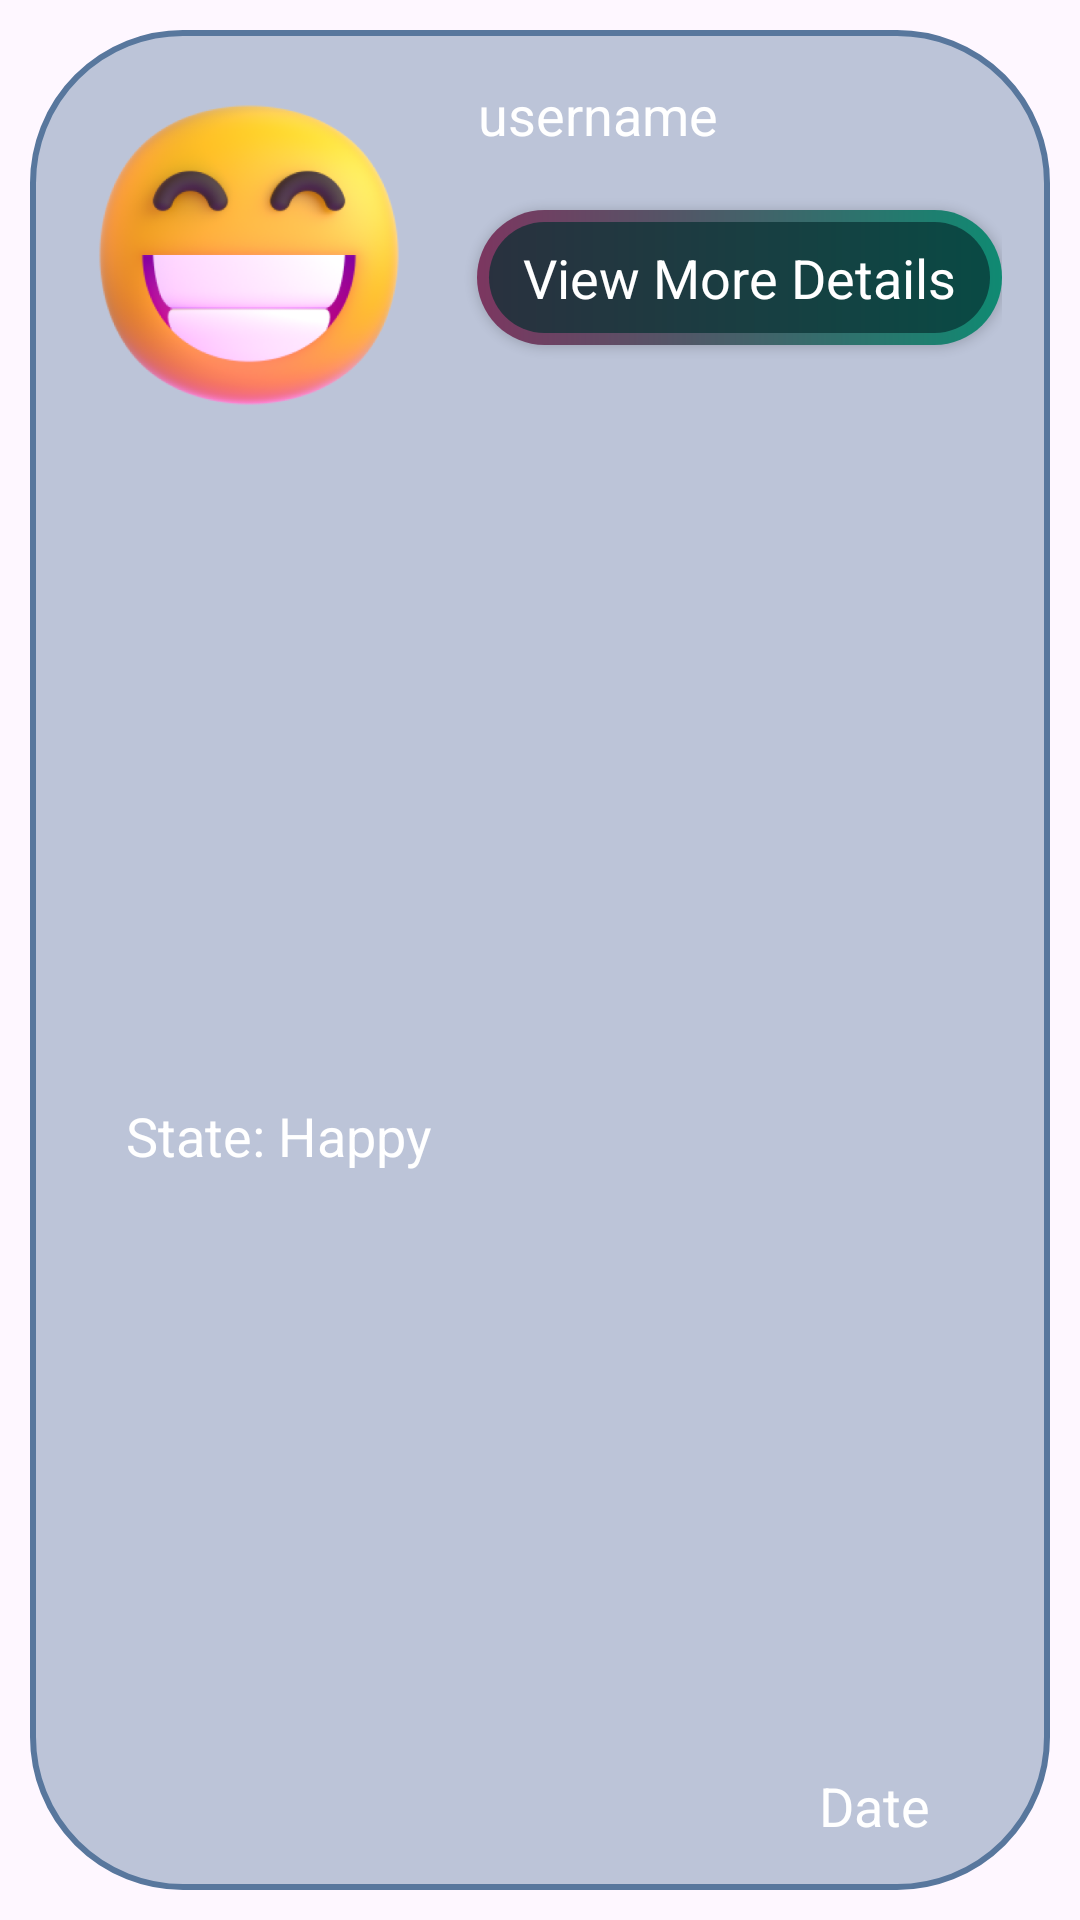

Screen size 1080*1920. Icon name, then its box in pixels as (x1, y1, x2, y2):
happy: (99, 105, 399, 405)
